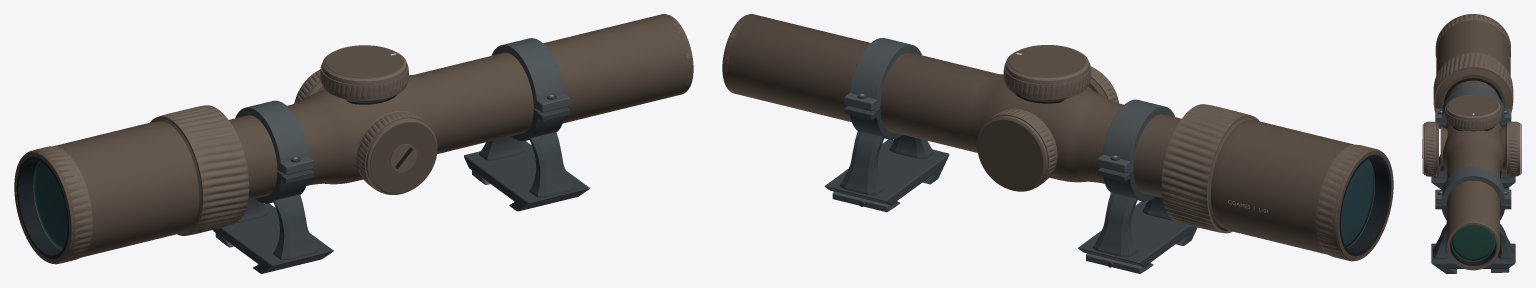
File: L01_A5_Rail.fbx
The picture shows the model from 3 angles, left to right: view 1: azimuth 30°, elevation 25°; view 2: azimuth 150°, elevation 25°; view 3: azimuth 270°, elevation 25°; orthographic projection. The views are drawn at different scales.
Visible parts, largest first — view 1: 01 MAIN SHELL | continuous quiet tube and rounded shoulders, 07 WIDE REAR GRIP | diagonal recessed bands, 10.0 LOCAL BASE | independent front crown and fixed return, 06 SIDE FACE -1, 10.1 LOCAL BASE | independent rear crown and fixed return, 08.0 RING UPPER, 08.1 RING UPPER, 07 NARROW OCULAR GRIP, 05 TOP FACE | quiet disk, 02 REAR INNER | dark edge, 09.0.-1 CURVED INTEGRAL FORK, 09.1.-1 CURVED INTEGRAL FORK (+13 smaller); view 2: 01 MAIN SHELL | continuous quiet tube and rounded shoulders, 07 WIDE REAR GRIP | diagonal recessed bands, 06 SIDE FACE 1, 10.0 LOCAL BASE | independent front crown and fixed return, 10.1 LOCAL BASE | independent rear crown and fixed return, 08.1 RING UPPER, 08.0 RING UPPER, 07 NARROW OCULAR GRIP, 05 TOP FACE | quiet disk, 02 REAR INNER | dark edge, 09.1.1 CURVED INTEGRAL FORK, 04 REAR VISUAL PANE (+15 smaller); view 3: 01 MAIN SHELL | continuous quiet tube and rounded shoulders, 07 WIDE REAR GRIP | diagonal recessed bands, 04 FRONT VISUAL PANE, 07 GRIP ROUND SHOULDERS, 08.0 RING UPPER, 05 TOP FACE | quiet disk, 10.0 LOCAL BASE | independent front crown and fixed return, 06 SIDE GRIP 1, 08.1 RING UPPER, 05 TOP CAP | shallow diamond valleys, 06 SIDE GRIP -1, 07 NARROW OCULAR GRIP (+20 smaller).
Part boxes in pixels (x1=…): 01 MAIN SHELL | continuous quiet tube and rounded shoulders: x1=14, y1=14, x2=692, y2=264; 07 WIDE REAR GRIP | diagonal recessed bands: x1=150, y1=105, x2=249, y2=235; 10.0 LOCAL BASE | independent front crown and fixed return: x1=464, y1=141, x2=589, y2=211; 06 SIDE FACE -1: x1=370, y1=122, x2=436, y2=193; 10.1 LOCAL BASE | independent rear crown and fixed return: x1=213, y1=203, x2=333, y2=273; 08.0 RING UPPER: x1=491, y1=38, x2=564, y2=110; 08.1 RING UPPER: x1=235, y1=100, x2=308, y2=172; 07 NARROW OCULAR GRIP: x1=26, y1=146, x2=92, y2=263; 05 TOP FACE | quiet disk: x1=325, y1=45, x2=403, y2=78; 02 REAR INNER | dark edge: x1=16, y1=156, x2=68, y2=258; 09.0.-1 CURVED INTEGRAL FORK: x1=529, y1=132, x2=574, y2=197; 09.1.-1 CURVED INTEGRAL FORK: x1=273, y1=194, x2=318, y2=259; 01 MAIN SHELL | continuous quiet tube and rounded shoulders: x1=723, y1=14, x2=1393, y2=261; 07 WIDE REAR GRIP | diagonal recessed bands: x1=1161, y1=104, x2=1259, y2=233; 06 SIDE FACE 1: x1=978, y1=119, x2=1043, y2=190; 10.0 LOCAL BASE | independent front crown and fixed return: x1=824, y1=139, x2=949, y2=205; 10.1 LOCAL BASE | independent rear crown and fixed return: x1=1078, y1=201, x2=1197, y2=266; 08.1 RING UPPER: x1=1102, y1=99, x2=1174, y2=170; 08.0 RING UPPER: x1=849, y1=38, x2=921, y2=109; 07 NARROW OCULAR GRIP: x1=1316, y1=144, x2=1384, y2=260; 05 TOP FACE | quiet disk: x1=1008, y1=45, x2=1086, y2=77; 02 REAR INNER | dark edge: x1=1339, y1=155, x2=1391, y2=256; 09.1.1 CURVED INTEGRAL FORK: x1=1092, y1=192, x2=1137, y2=256; 04 REAR VISUAL PANE: x1=1341, y1=160, x2=1374, y2=247; 01 MAIN SHELL | continuous quiet tube and rounded shoulders: x1=1436, y1=14, x2=1510, y2=268; 07 WIDE REAR GRIP | diagonal recessed bands: x1=1433, y1=52, x2=1513, y2=112; 04 FRONT VISUAL PANE: x1=1452, y1=225, x2=1494, y2=260; 07 GRIP ROUND SHOULDERS: x1=1435, y1=68, x2=1511, y2=108; 08.0 RING UPPER: x1=1441, y1=167, x2=1505, y2=204; 05 TOP FACE | quiet disk: x1=1448, y1=94, x2=1498, y2=116; 10.0 LOCAL BASE | independent front crown and fixed return: x1=1431, y1=243, x2=1515, y2=273; 06 SIDE GRIP 1: x1=1508, y1=121, x2=1518, y2=176; 08.1 RING UPPER: x1=1441, y1=86, x2=1505, y2=123; 05 TOP CAP | shallow diamond valleys: x1=1444, y1=106, x2=1501, y2=129; 06 SIDE GRIP -1: x1=1426, y1=121, x2=1435, y2=176; 07 NARROW OCULAR GRIP: x1=1435, y1=14, x2=1510, y2=57.
Size of the model in its own units: 37.82 by 9.58 by 7.98.
